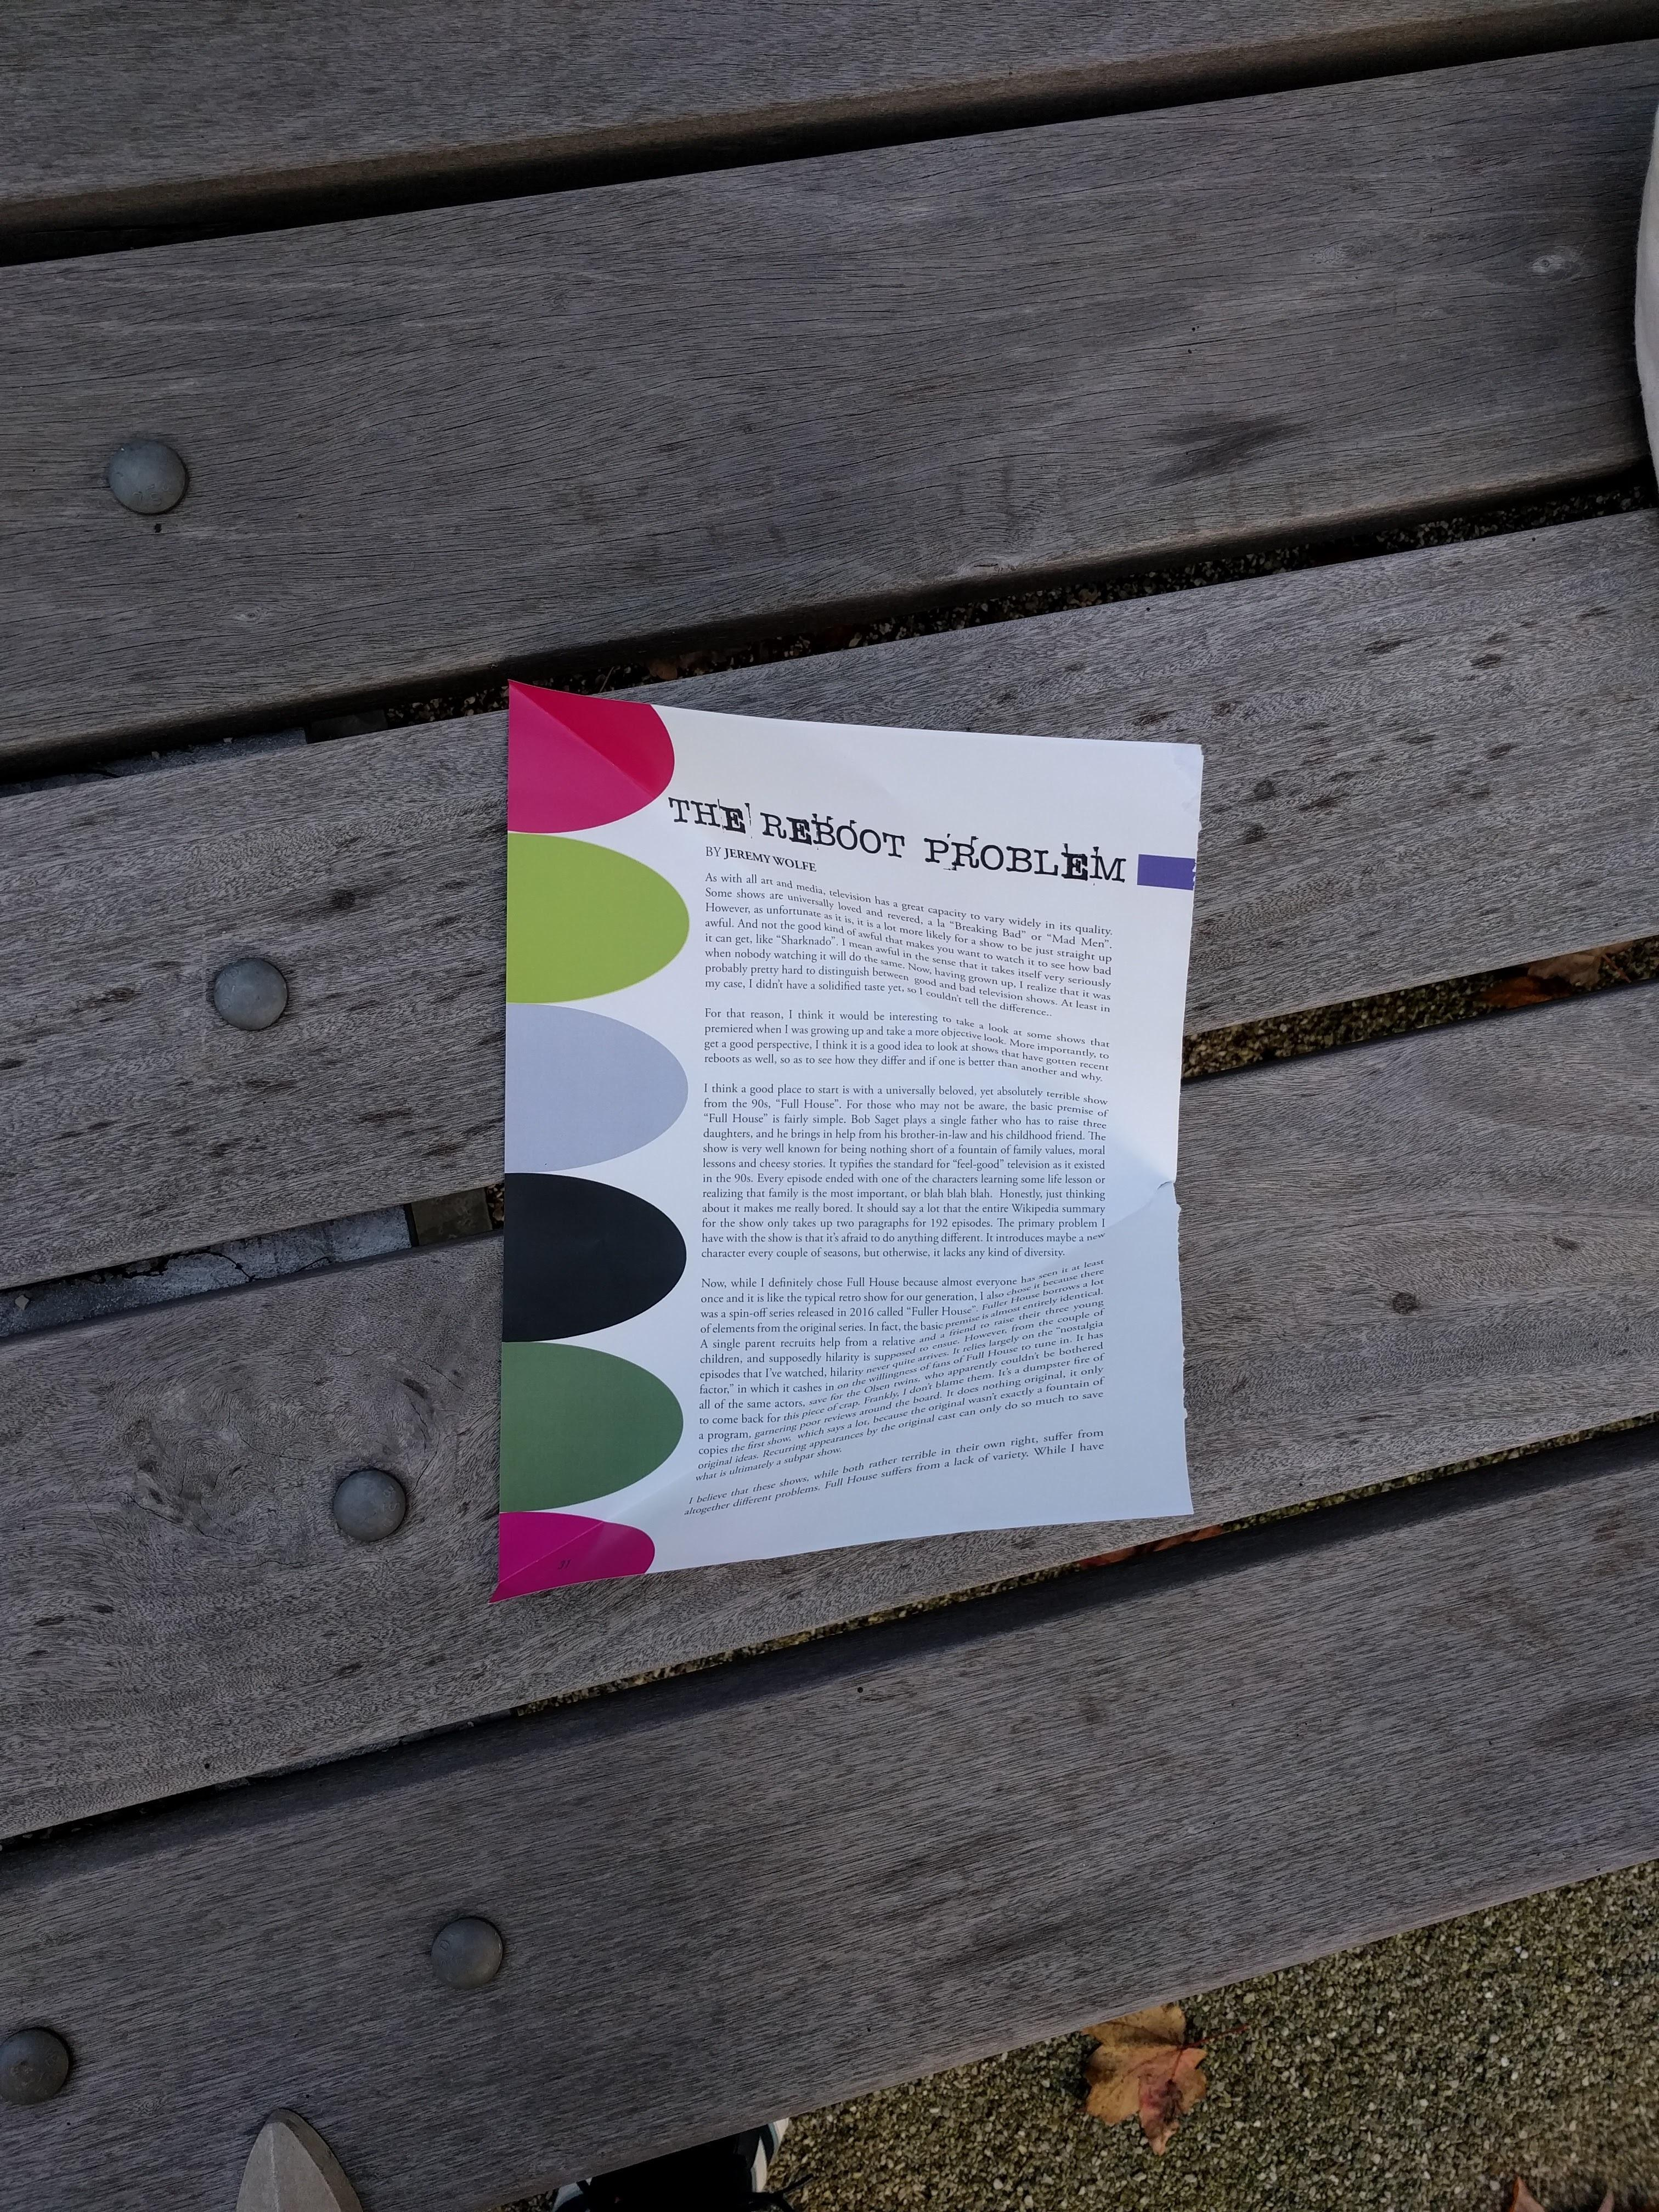paper: (345, 578, 1230, 1728)
